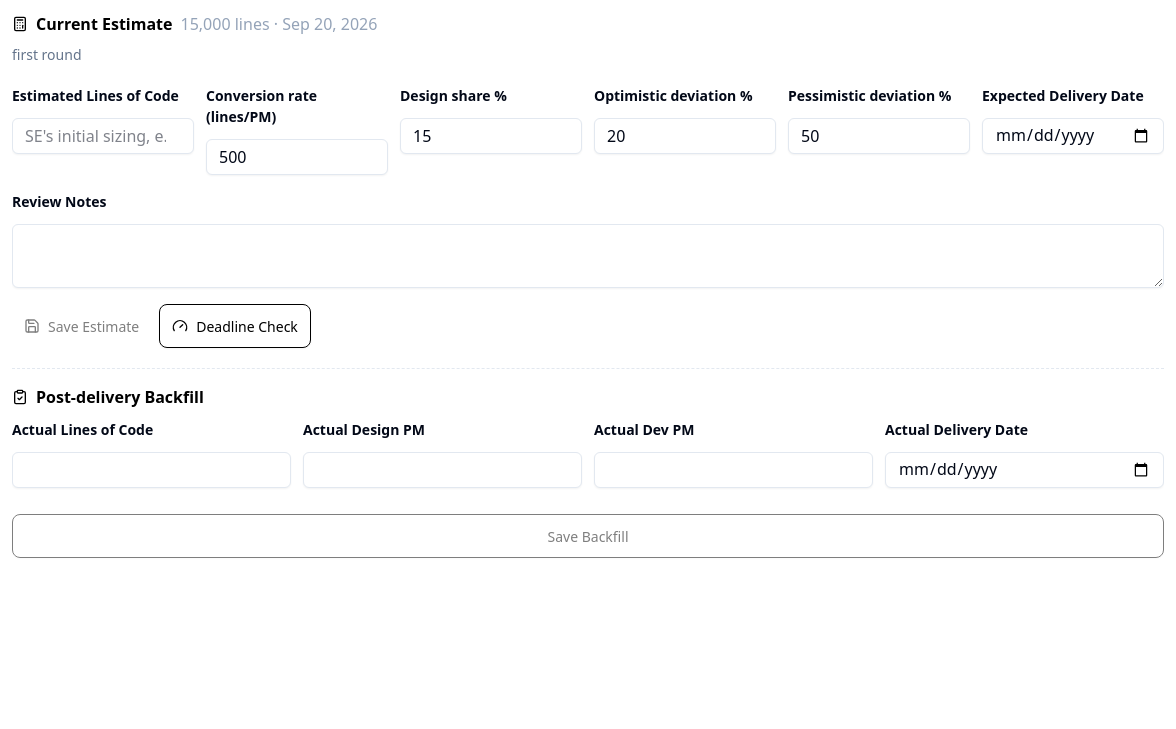
Test: EstimationPanel › deadline check renders overall verdict and per-side rows
Expected: the text "Current Estimate" is shown, [36,12,172,36]
Click the button "Deadline Check". click: (235, 326)
box: [159,304,311,348]
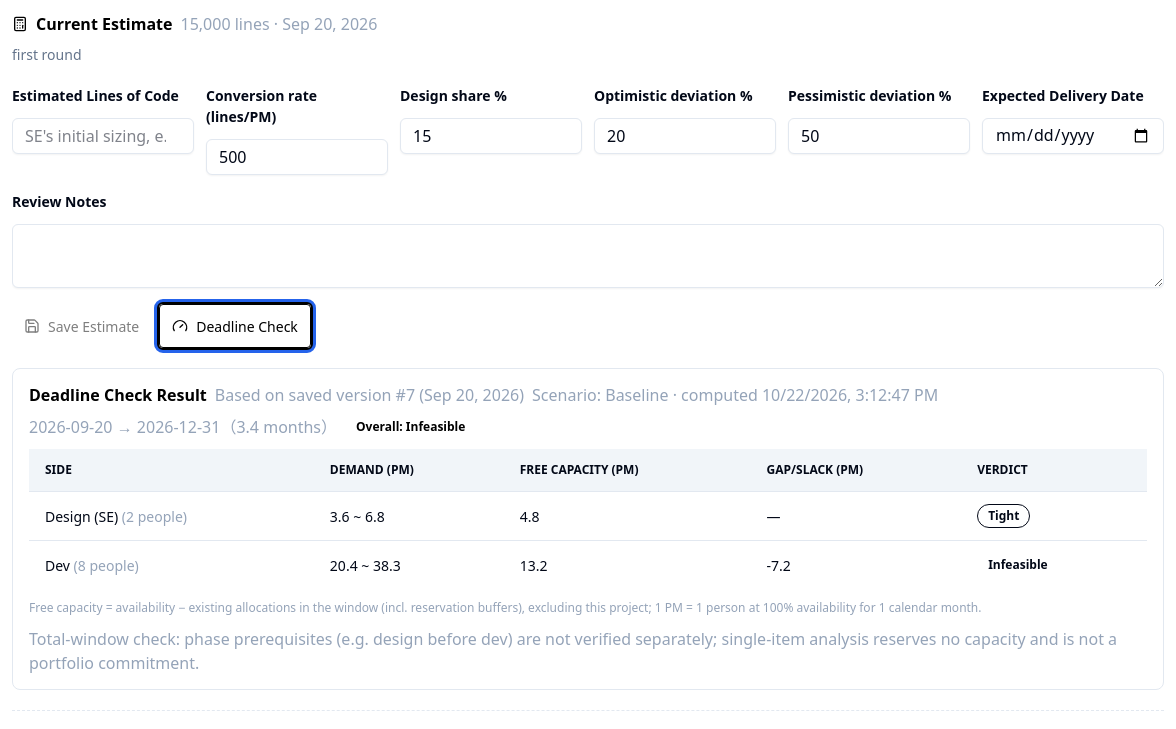
Expected: the text "Overall: Infeasible" is shown, [356,418,465,435]
Expected: the text "Design (SE)" is shown, [45,506,118,526]
Expected: the column heading "Gap/Slack (PM)" is shown, [751,449,961,492]
